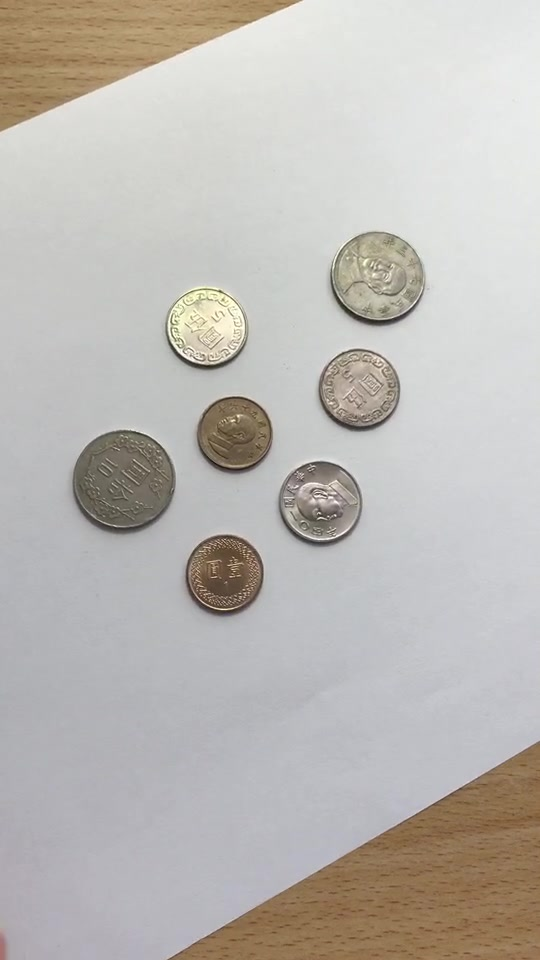1 dallar: (185, 386, 283, 475), (178, 528, 276, 617)
10 dallar: (67, 422, 177, 535), (325, 219, 435, 332)
5 dallar: (145, 271, 266, 374), (299, 340, 420, 443), (272, 452, 364, 552)
